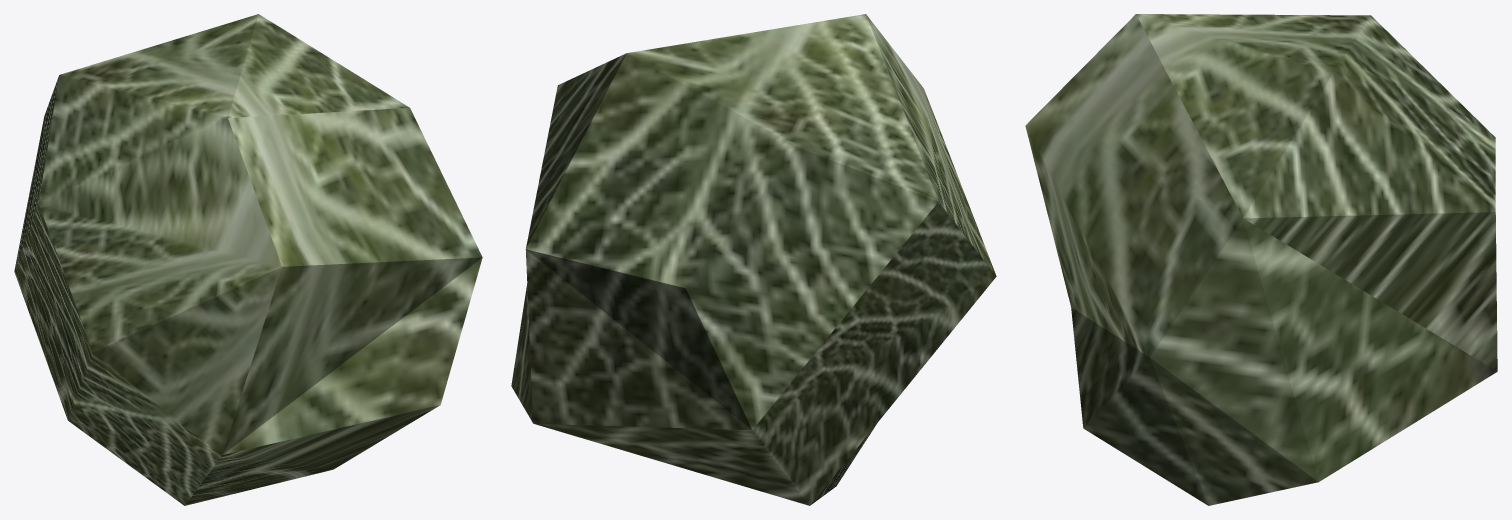
File: GS_NATURE_CABBAGE_03_GALI.glb
The picture shows the model from 3 angles, left to right: view 1: azimuth 30°, elevation 25°; view 2: azimuth 150°, elevation 25°; view 3: azimuth 270°, elevation 25°; orthographic projection. The views are drawn at different scales.
Parts seen in each view (by area): view 1: GS_NATURE_CABBAGE_03_GALI; view 2: GS_NATURE_CABBAGE_03_GALI; view 3: GS_NATURE_CABBAGE_03_GALI.
Part boxes in pixels (x1,y1,x2,y2): GS_NATURE_CABBAGE_03_GALI: [14, 14, 482, 505]; GS_NATURE_CABBAGE_03_GALI: [511, 14, 996, 505]; GS_NATURE_CABBAGE_03_GALI: [1025, 14, 1497, 505].
Bounding box in the file's own units: 0.2491 × 0.2532 × 0.2553.
1 material, 1 textured.
